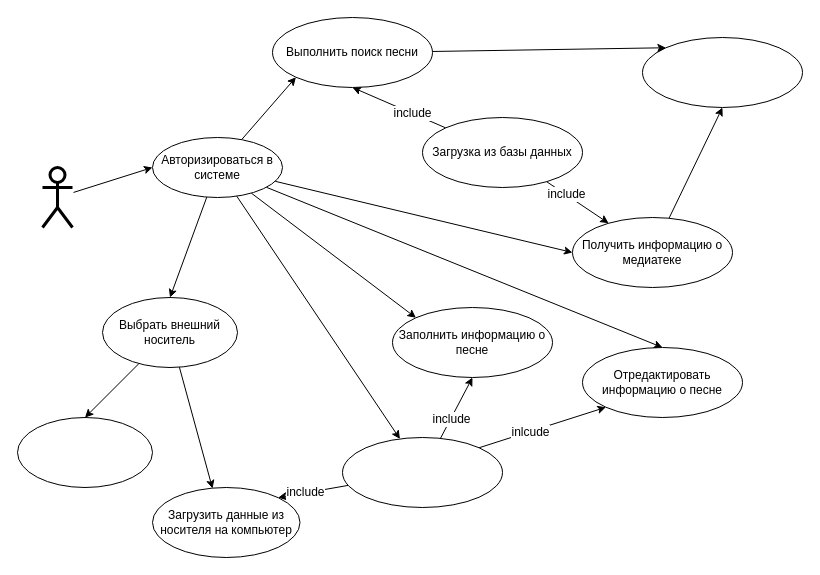
Some shapes in this 820 by 575 pixel diagram are drawn without their labels. The shapes that lost their labels are listed below. From the top down, each one's centre as x and y in pixels, then its label:
At point 722,72: "Вывести информацию в таблицу".
At point 57,197: "Actor".
At point 84,452: "Загрузить данные на носитель с компьютера".
At point 422,472: "Обновить базу данных".
